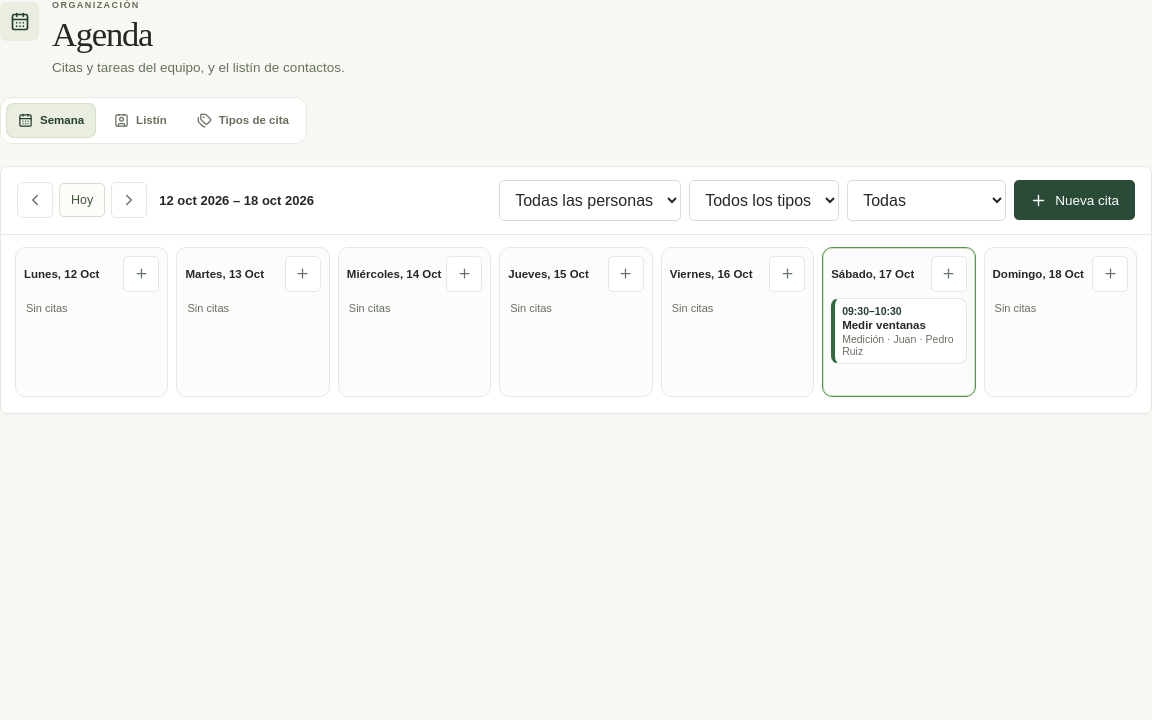
Test: marks an appointment as done with what was done
The width and height of the screenshot is (1152, 720).
Click the button "09:30–10:30 Medir ventanas Medición · Juan · Pedro Ruiz" at [899, 331], box [831,298,966,364]
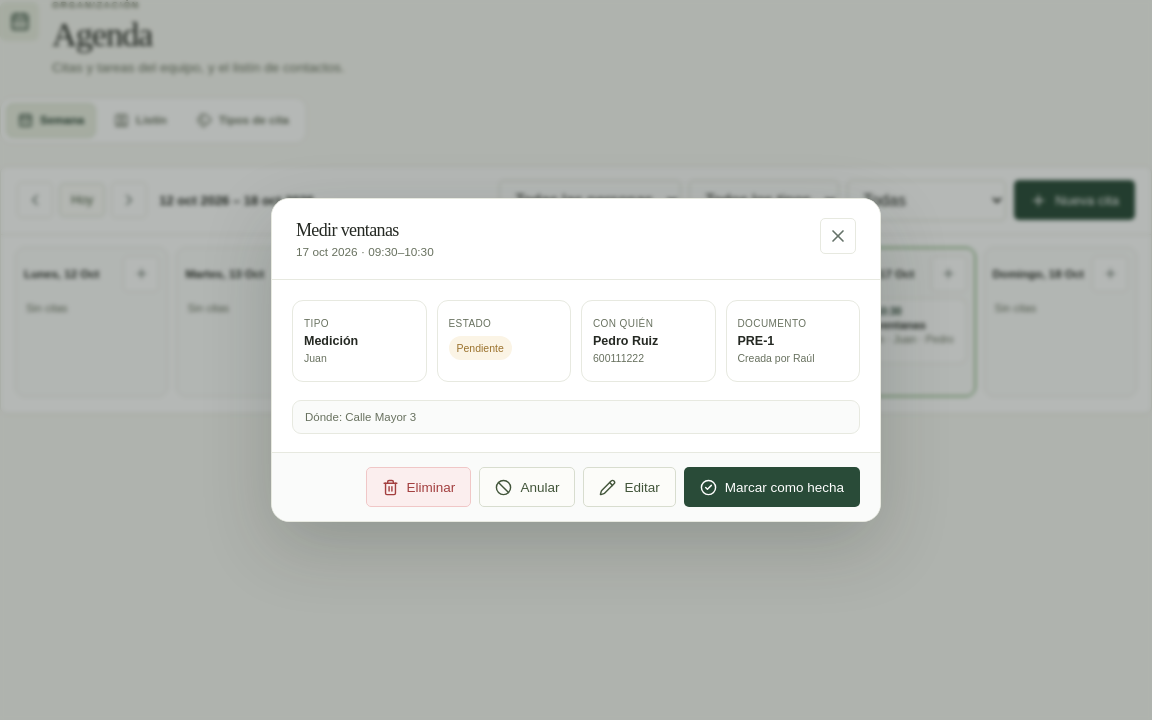
Result: the dialog "Medir ventanas" shows "600111222" at [593,352,644,364]
Click the button "Marcar como hecha" at [772, 487], box [684,467,860,507]
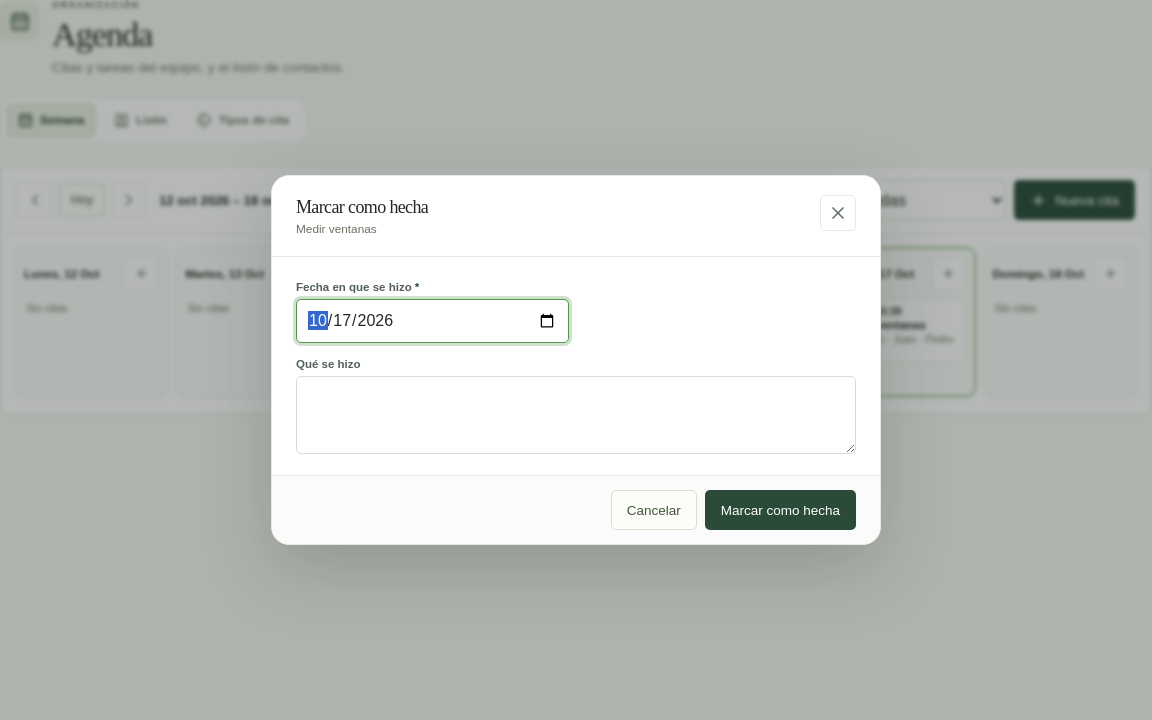
Type "4 huecos medidos" into the text box labelled "Qué se hizo" at [576, 415], box [296,376,856,454]
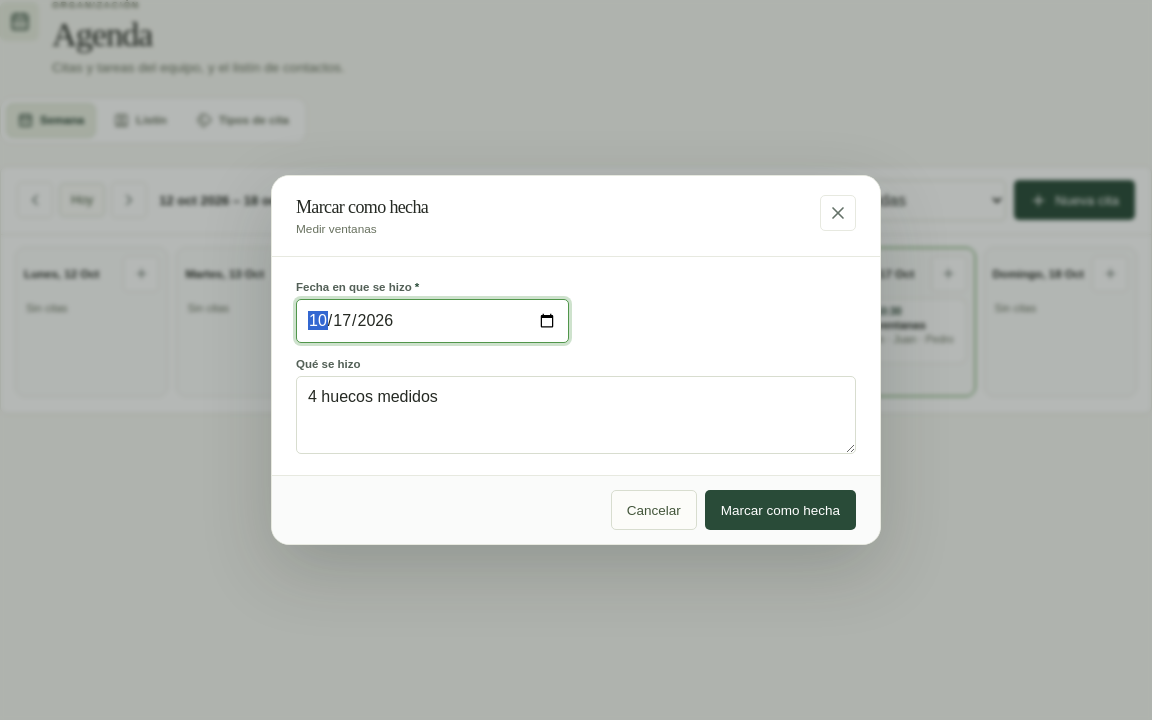
Click the button "Marcar como hecha" at [780, 510], box [705,490,856,530]
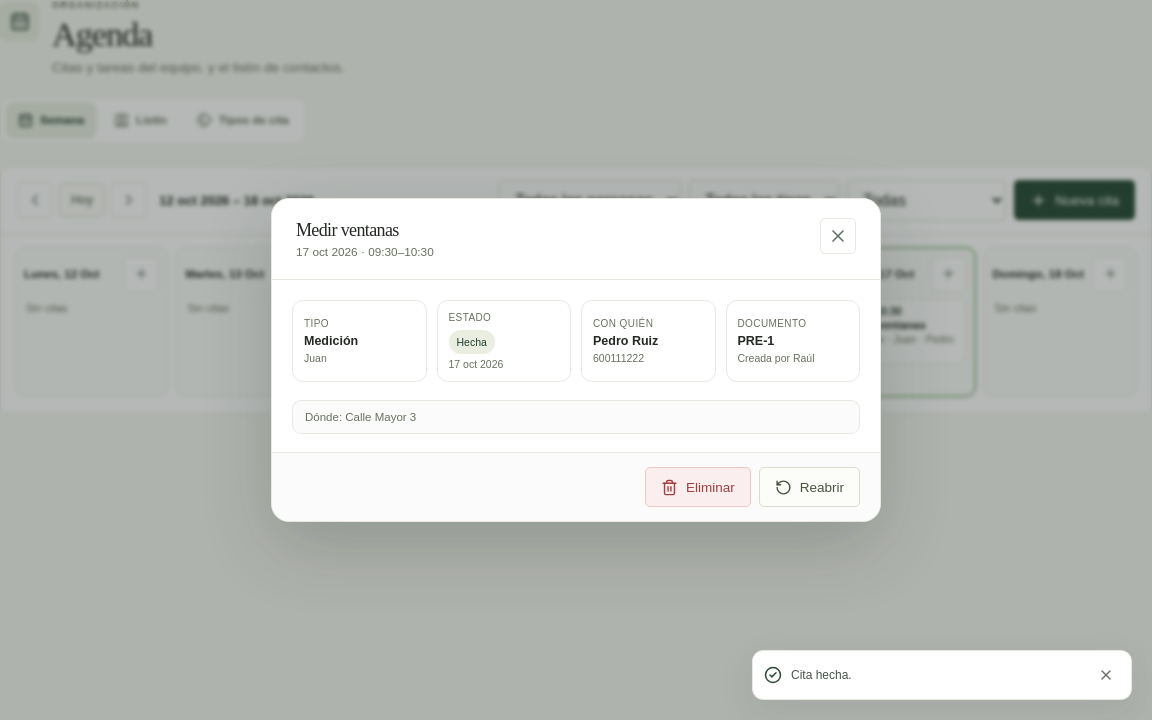
Result: the text "Cita hecha." is shown at [791,668,852,682]
